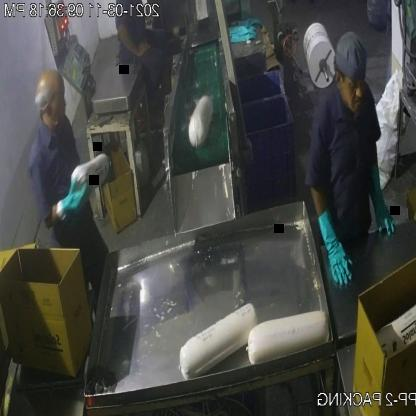glove: (317, 203, 356, 297), (365, 158, 400, 242), (53, 172, 90, 223)
no_glove: (116, 20, 152, 64)
